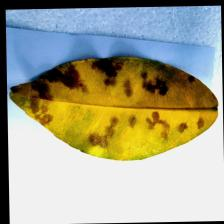black spot: (26, 59, 177, 154)
